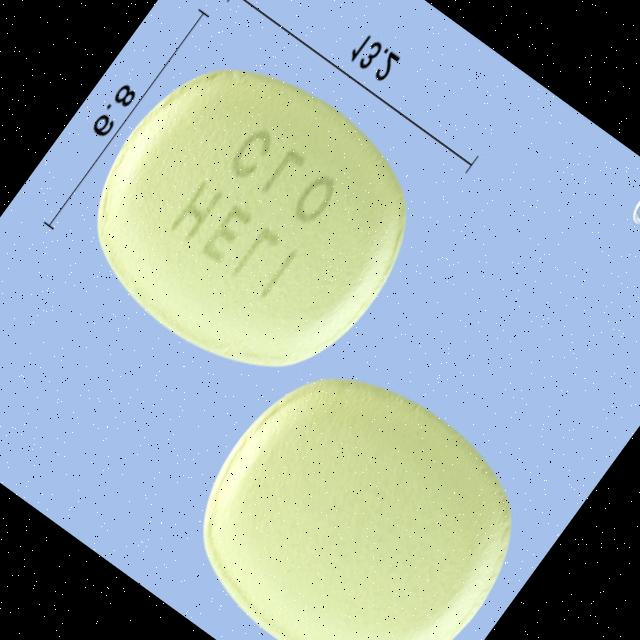Heliclo Tab: (48, 19, 454, 422), (152, 325, 559, 640)
